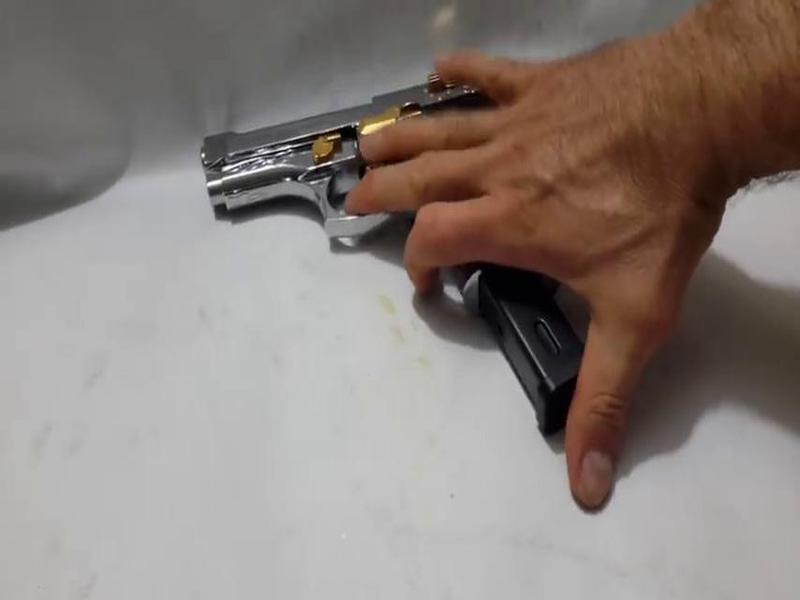Pistola: (176, 65, 582, 297)
